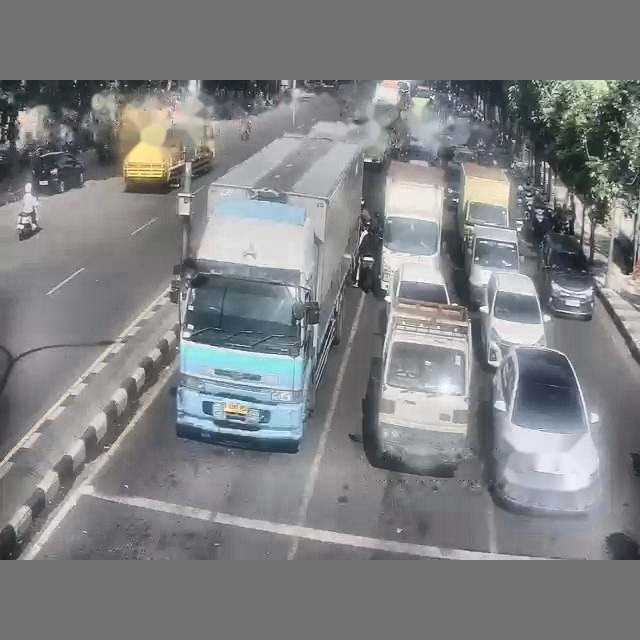Mobil: (491, 347, 600, 513), (480, 272, 550, 366), (538, 232, 594, 319), (385, 263, 450, 317), (32, 152, 84, 192)
Motor: (17, 213, 37, 240)
Truk: (172, 134, 362, 452), (363, 296, 471, 466), (379, 161, 445, 293), (118, 104, 215, 190), (458, 162, 510, 252)
